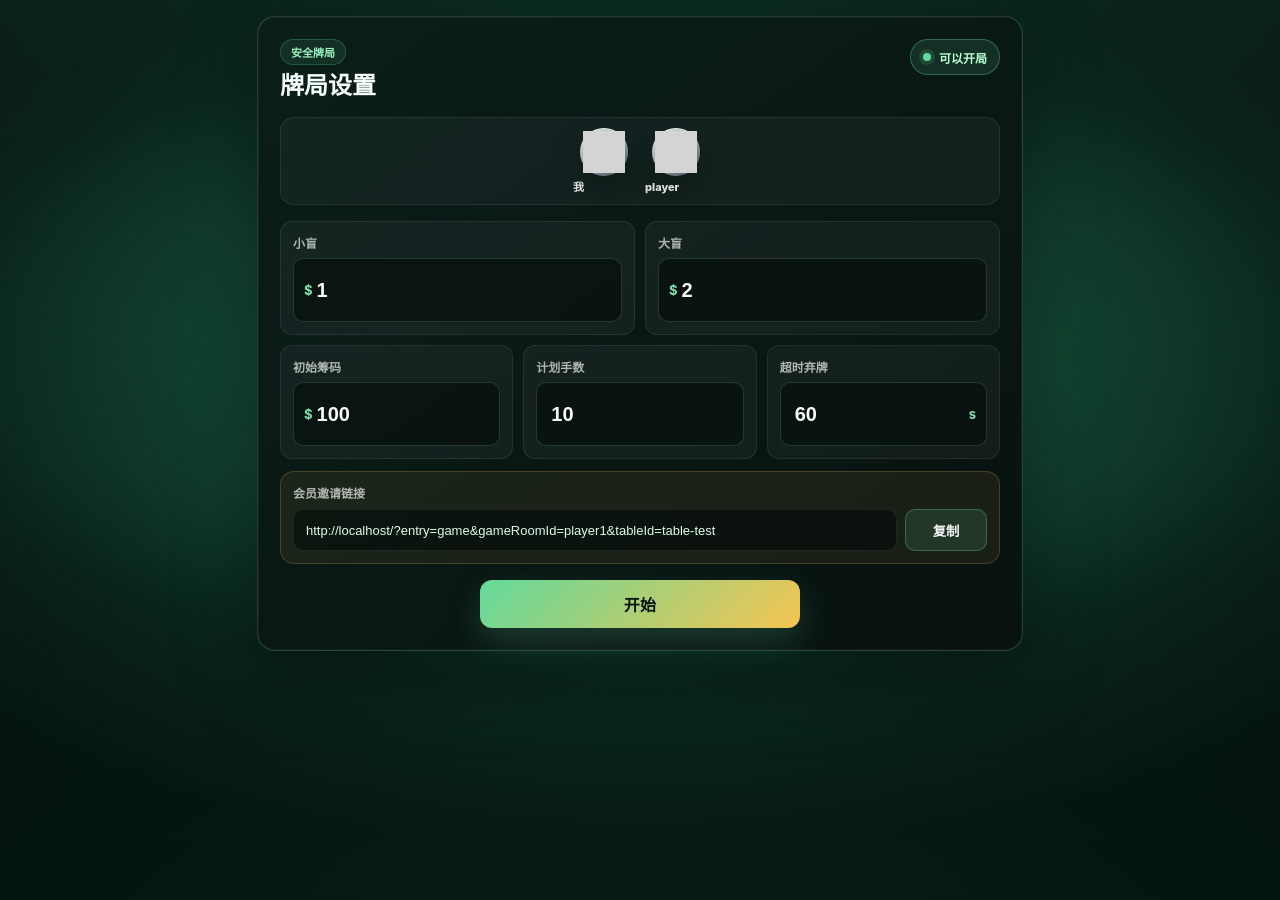
Test: does not broadcast NaN while a numeric setup field is temporarily empty
The width and height of the screenshot is (1280, 900).
Clear the number field with test id "auto-fold-timeout-input" at (884, 414), box 791,393 -> 977,435
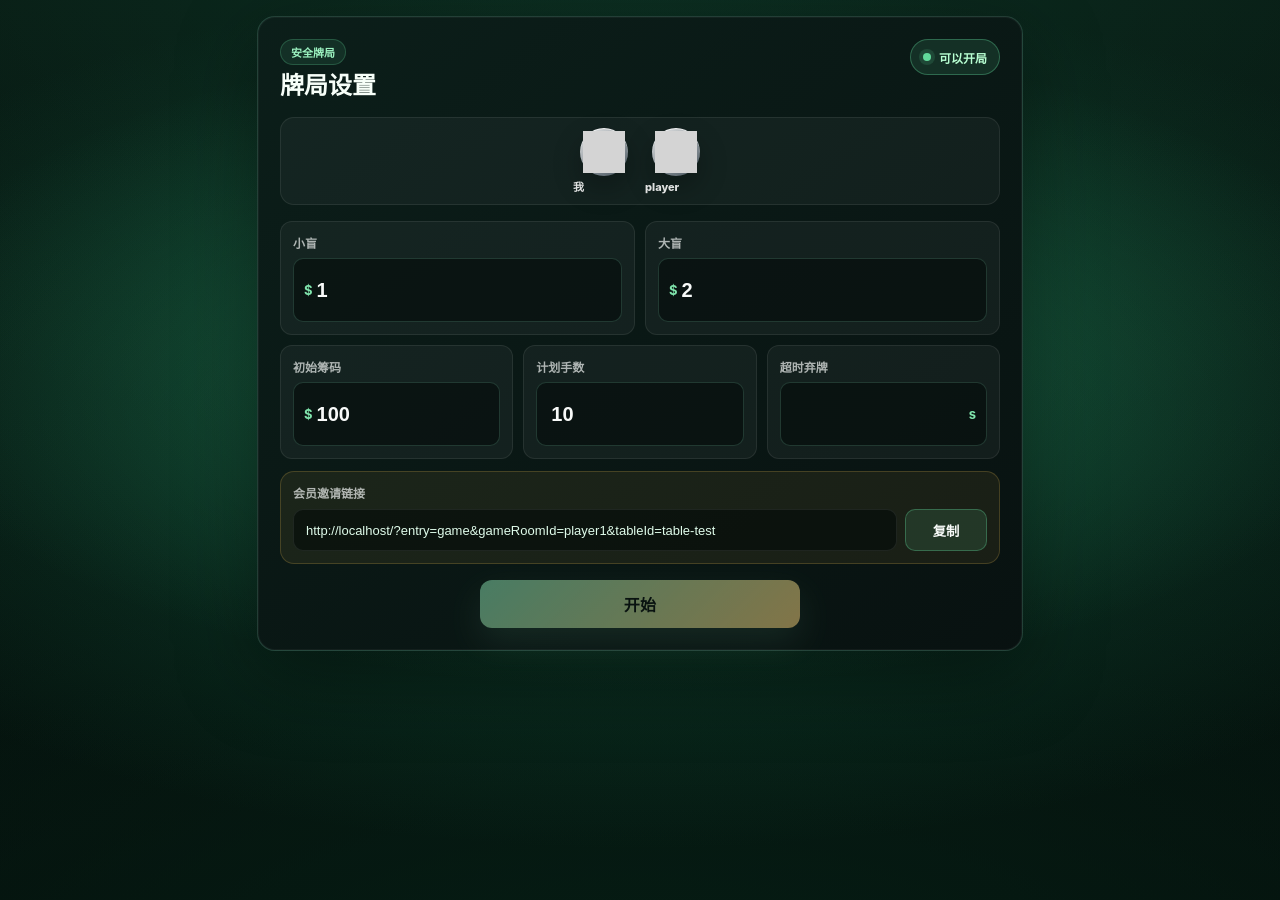
expect the button with test id "start-button" is disabled: met, box 480,580 -> 800,628
Type "500" into the number field with test id "auto-fold-timeout-input" at (884, 414), box 791,393 -> 977,435
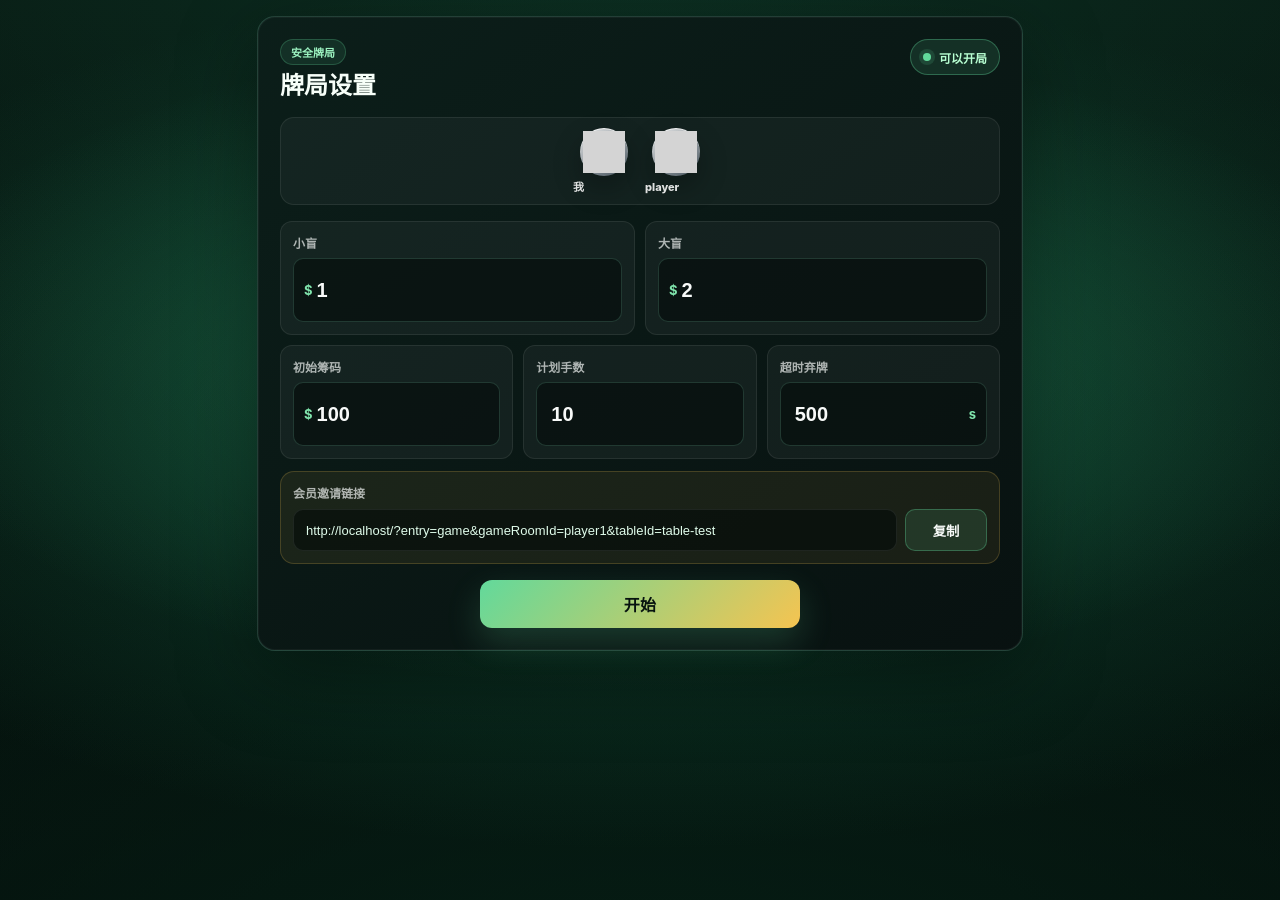
expect the button with test id "start-button" is enabled: met, box 480,580 -> 800,628
